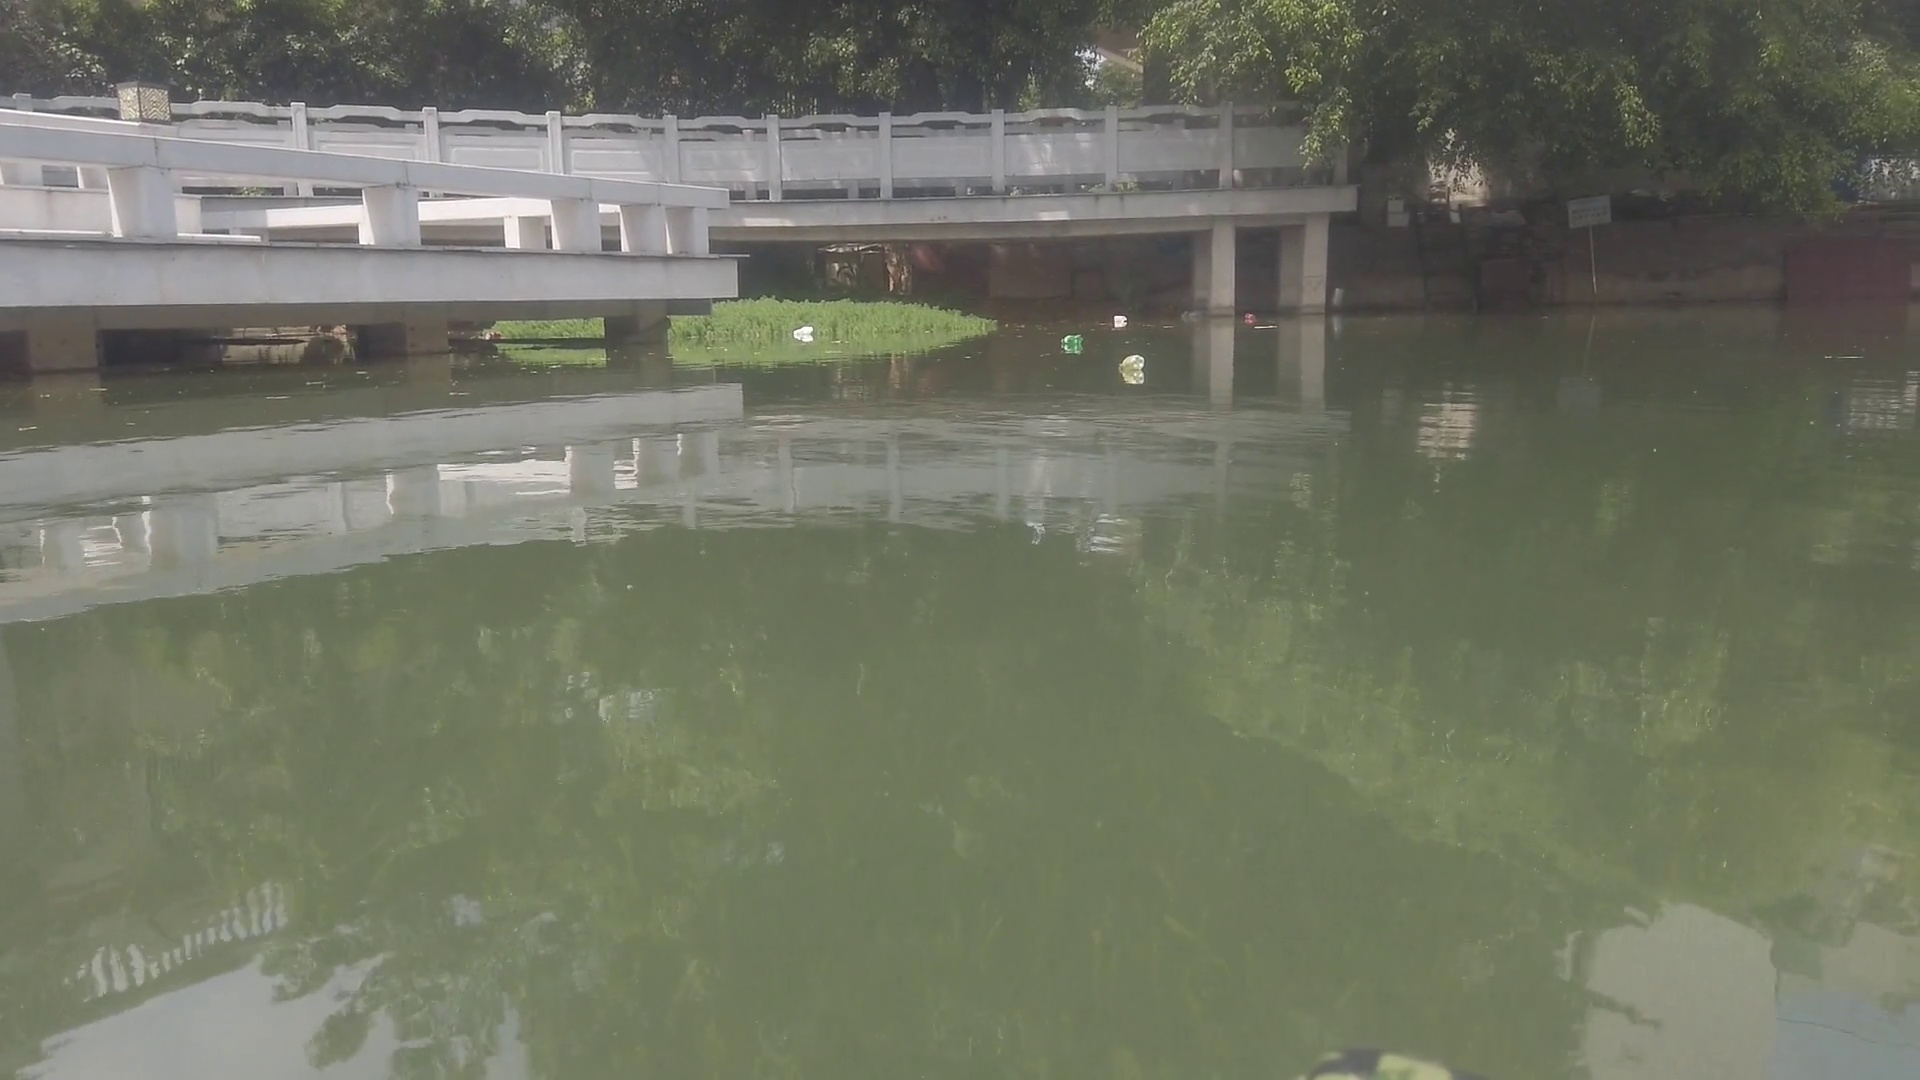bottle: (1113, 349, 1154, 373), (1056, 328, 1087, 345), (1241, 309, 1258, 324)
carton: (1113, 313, 1127, 324)
plastic: (791, 324, 815, 338)
